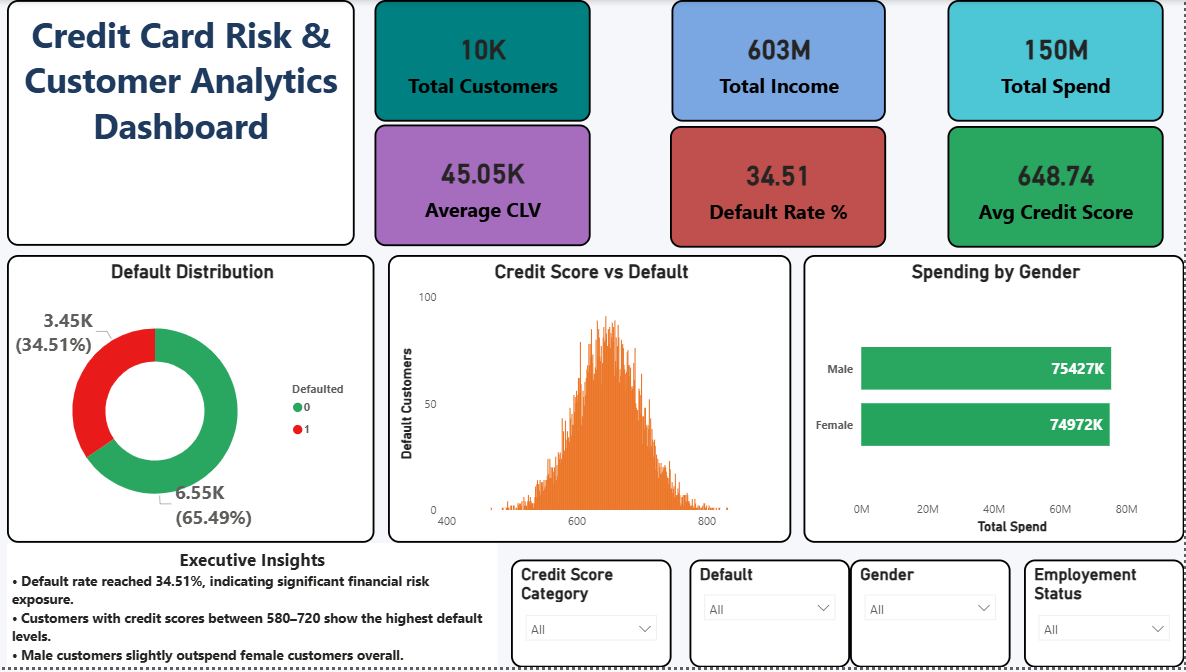

This screenshot's page, from the dashboard's own definition file:
{"tool":"powerbi","page":{"name":"Executive Summary","canvas":[1280,720],"ordinal":0},"visuals":[{"type":"textbox","box":[9.7,0,375.7,265.6],"z":0},{"type":"card","fields":{"Values":["bank bank_analysis.Total Customers"]},"box":[406.4,0,233.2,131.2],"z":1000},{"type":"card","fields":{"Values":["bank bank_analysis.Total Income"]},"box":[727,0,231.5,131.2],"z":2000},{"type":"card","fields":{"Values":["bank bank_analysis.Total Spend"]},"box":[1025,0,233.2,131.2],"z":3000},{"type":"card","fields":{"Values":["bank bank_analysis.Average CLV"]},"box":[406.4,134.4,233.2,131.2],"z":4000},{"type":"card","fields":{"Values":["bank bank_analysis.Default Rate %"]},"box":[725.4,136,233.2,131.2],"z":5000},{"type":"card","fields":{"Values":["bank bank_analysis.Avg Credit Score"]},"box":[1025,136,233.2,131.2],"z":6000},{"type":"donutChart","title":"Default Distribution","fields":{"Category":["bank bank_analysis.Defaulted"],"Y":["CountNonNull(bank bank_analysis.Customer_ID)"]},"box":[9.7,275.3,396.7,310.9],"z":7000},{"type":"clusteredColumnChart","title":"Credit Score vs Default","fields":{"Category":["bank bank_analysis.Credit_Score"],"Y":["CountNonNull(bank bank_analysis.Defaulted)"]},"box":[421,275.3,435.6,310.9],"z":8000},{"type":"clusteredBarChart","title":"Spending by Gender","fields":{"Category":["bank bank_analysis.Gender"],"Y":["bank bank_analysis.Total Spend"]},"box":[869.5,275.3,411.3,310.9],"z":9000},{"type":"slicer","title":"Gender","fields":{"Values":["bank bank_analysis.Gender"]},"box":[919.7,604,173.3,116.6],"z":10000},{"type":"slicer","title":"Employement Status","fields":{"Values":["bank bank_analysis.Employment_Status"]},"box":[1107.6,604,173.3,116.6],"z":11000},{"type":"textbox","box":[9.7,586.2,529.5,134.4],"z":12000},{"type":"slicer","title":"Default","fields":{"Values":["bank bank_analysis.Defaulted"]},"box":[746.5,604,173.3,116.6],"z":13000},{"type":"slicer","title":"Credit Score Category","fields":{"Values":["bank bank_analysis.Credit Score Category"]},"box":[553.8,604,173.3,116.6],"z":14000}]}

Visuals, with their boxes in screenshot pixels (x1, y1, x2, y2), scaled from the page's 1280x720 canvas onto the 1186x672 screenshot:
textbox: detection(9, 0, 357, 248)
card - bank bank_analysis.Total Customers: detection(377, 0, 593, 122)
card - bank bank_analysis.Total Income: detection(674, 0, 888, 122)
card - bank bank_analysis.Total Spend: detection(950, 0, 1166, 122)
card - bank bank_analysis.Average CLV: detection(377, 125, 593, 248)
card - bank bank_analysis.Default Rate %: detection(672, 127, 888, 249)
card - bank bank_analysis.Avg Credit Score: detection(950, 127, 1166, 249)
"Default Distribution" donutChart: detection(9, 257, 377, 547)
"Credit Score vs Default" clusteredColumnChart: detection(390, 257, 794, 547)
"Spending by Gender" clusteredBarChart: detection(806, 257, 1185, 547)
"Gender" slicer: detection(852, 564, 1013, 671)
"Employement Status" slicer: detection(1026, 564, 1185, 671)
textbox: detection(9, 547, 500, 671)
"Default" slicer: detection(692, 564, 852, 671)
"Credit Score Category" slicer: detection(513, 564, 674, 671)
